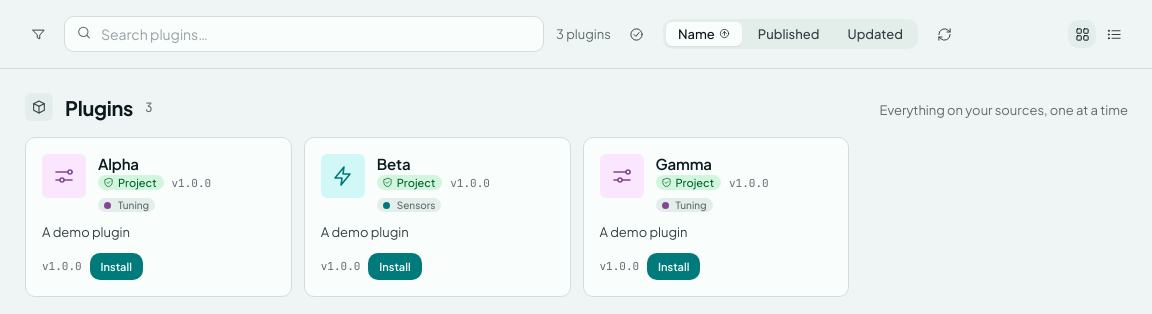
PluginStore filtering › clears the search when Escape is pressed in the field
Expected: the text "Alpha" is shown, [98,154,139,173]
In the field with placeholder "Search plugins…": (304, 34) [64,16,544,52], type "Beta"
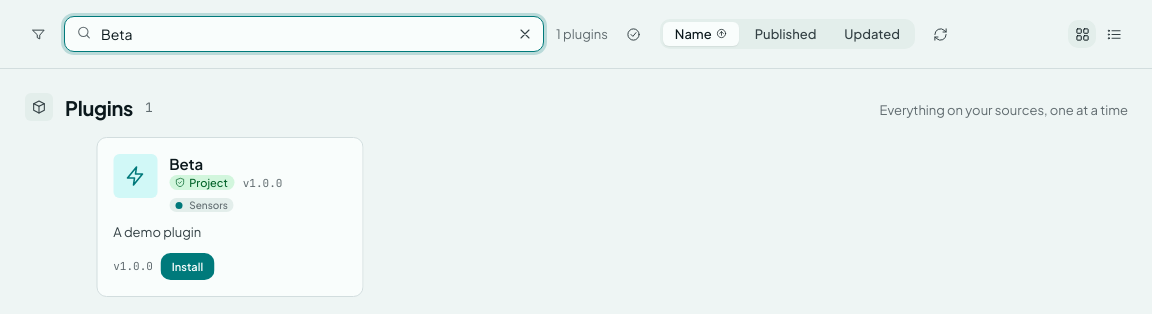
Expected: the button "Alpha" is gone
Press Escape
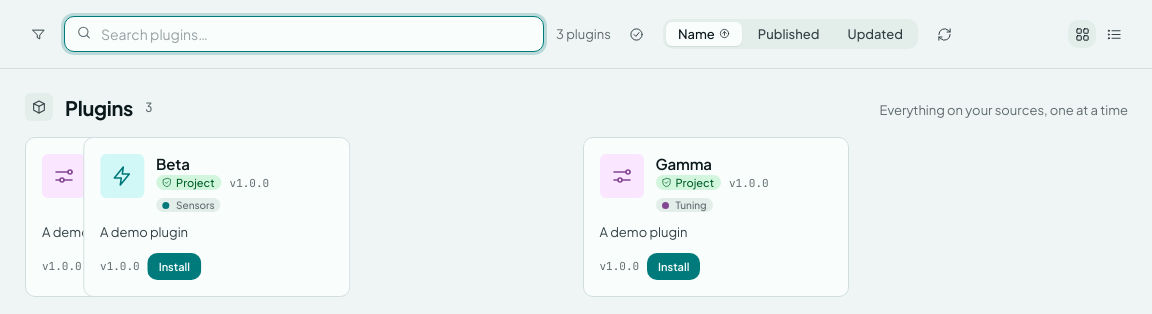
Expected: the field with placeholder "Search plugins…" is empty, [64,16,544,52]
Expected: the text "Alpha" is shown, [98,154,139,173]
